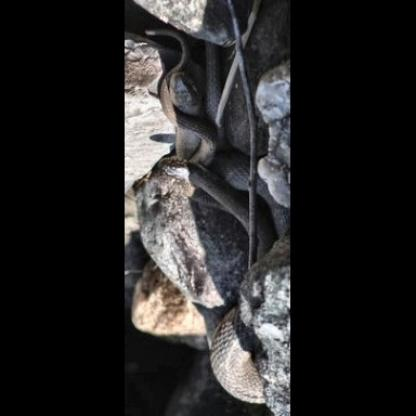Snake: (160, 148, 269, 266)
